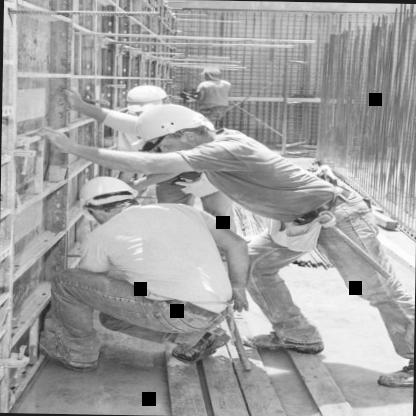helmet: (123, 104, 218, 159), (73, 174, 143, 224), (198, 63, 223, 82)
